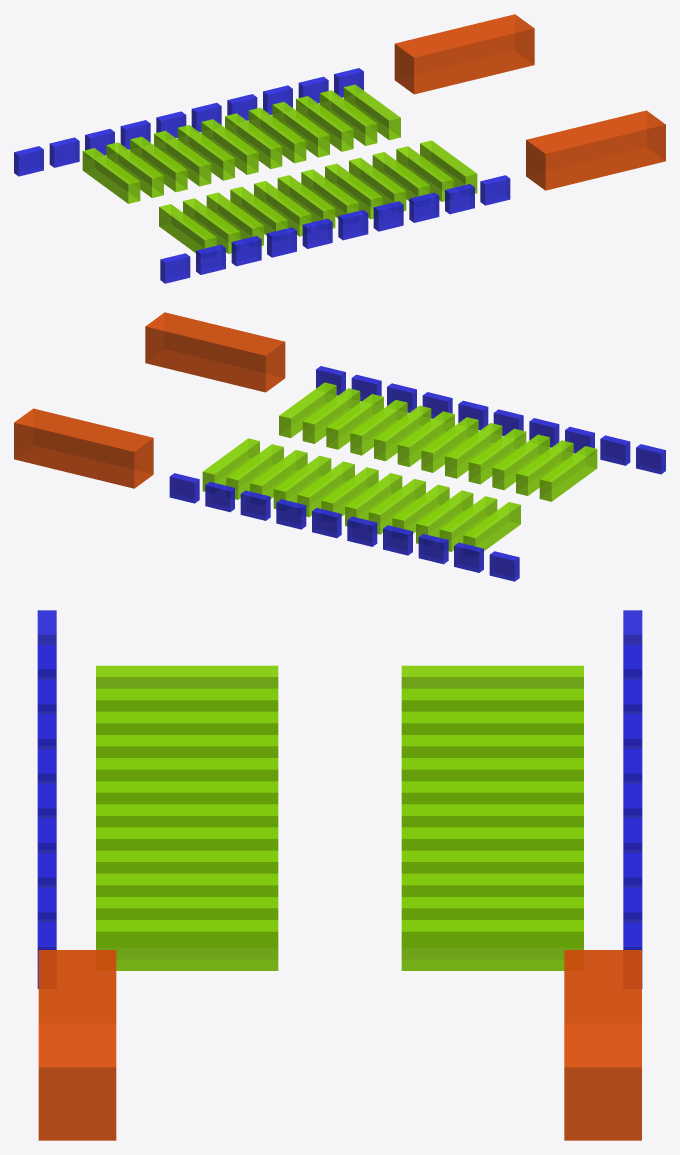
The picture shows the model from 3 angles, top to bottom: view 1: azimuth 30°, elevation 25°; view 2: azimuth 150°, elevation 25°; view 3: azimuth 270°, elevation 25°; orthographic projection. The views are drawn at different scales.
Visible parts, largest first — view 1: 0-racks, 0-AC, 0-pModA, 0-pModB; view 2: 0-racks, 0-AC, 0-pModB, 0-pModA; view 3: 0-racks, 0-pModB, 0-pModA, 0-AC.
Part boxes in pixels (x1,y1,x2,y2): 0-racks: [82, 84, 477, 253]; 0-AC: [14, 68, 510, 283]; 0-pModA: [394, 14, 534, 94]; 0-pModB: [526, 110, 665, 190]; 0-racks: [202, 382, 597, 551]; 0-AC: [169, 366, 665, 581]; 0-pModB: [145, 312, 285, 392]; 0-pModA: [14, 408, 153, 488]; 0-racks: [96, 665, 583, 970]; 0-pModB: [38, 950, 116, 1140]; 0-pModA: [564, 950, 641, 1140]; 0-AC: [37, 610, 642, 988].
Size of the model in its own units: 67.63 by 4.74 by 35.35.
